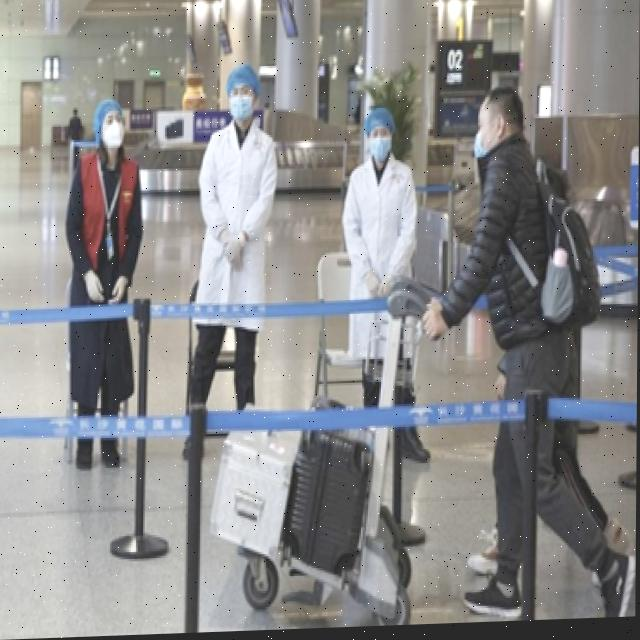Mask: (476, 118, 506, 161), (101, 123, 125, 149), (369, 140, 393, 163), (232, 98, 254, 123)
